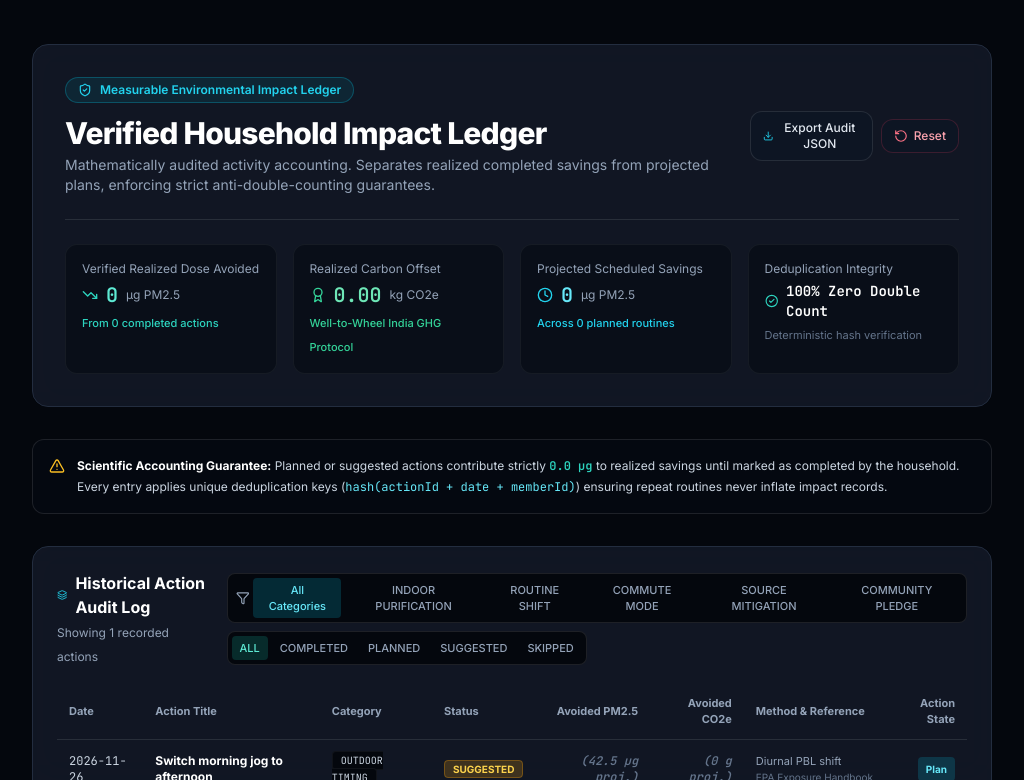
Full Workbench & UI Interaction Coverage › ImpactWorkbench renders seeded ledger entries and transitions SUGGESTED -> PLANNED -> COMPLETED
Click the button "Plan": click(936, 769) [918,757,955,779]
(page scrolled)
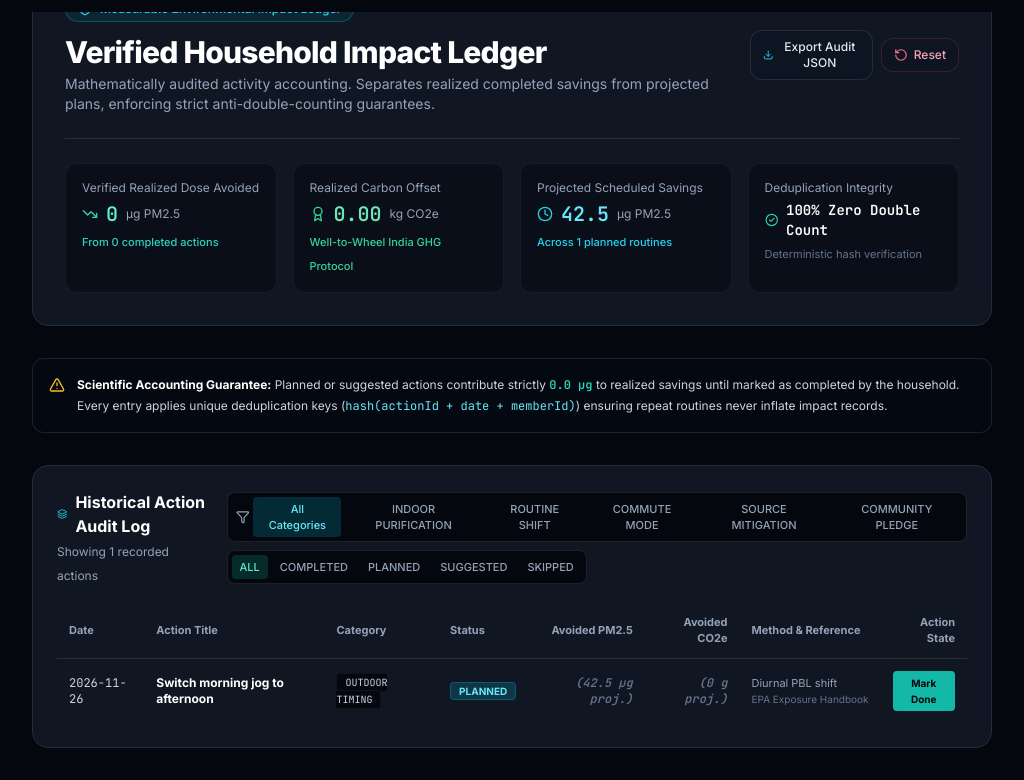
Click the button "Mark Done": click(924, 691) [892,671,955,711]
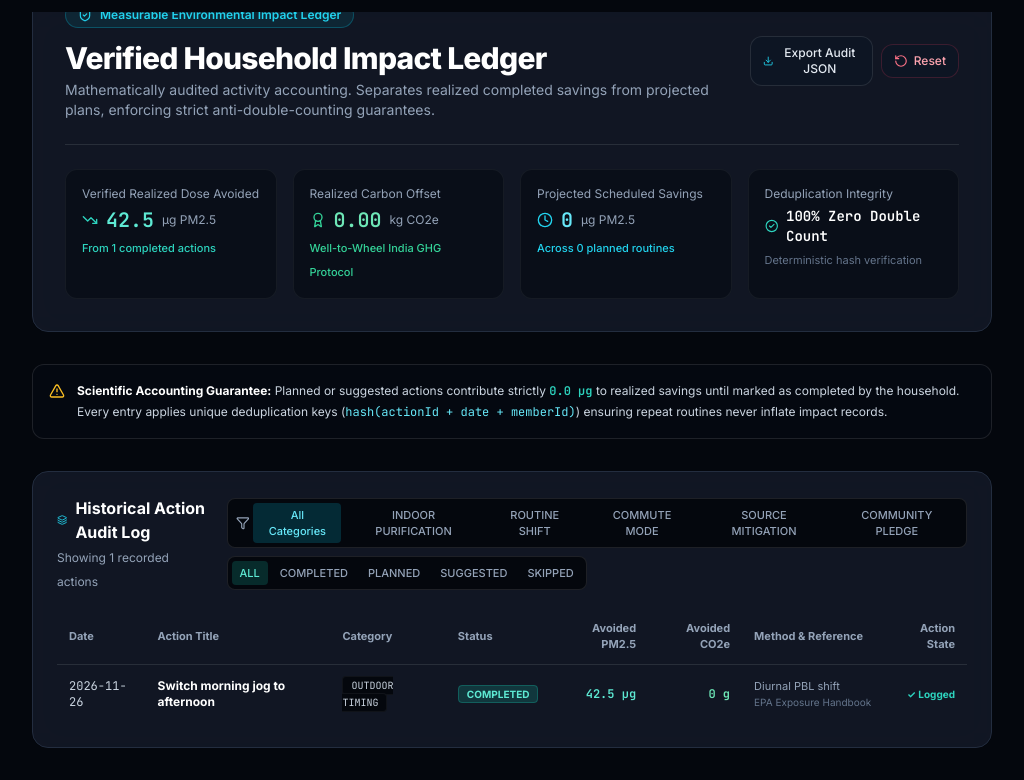
Result: the text "✓ Logged" is shown at [907,688,955,700]
